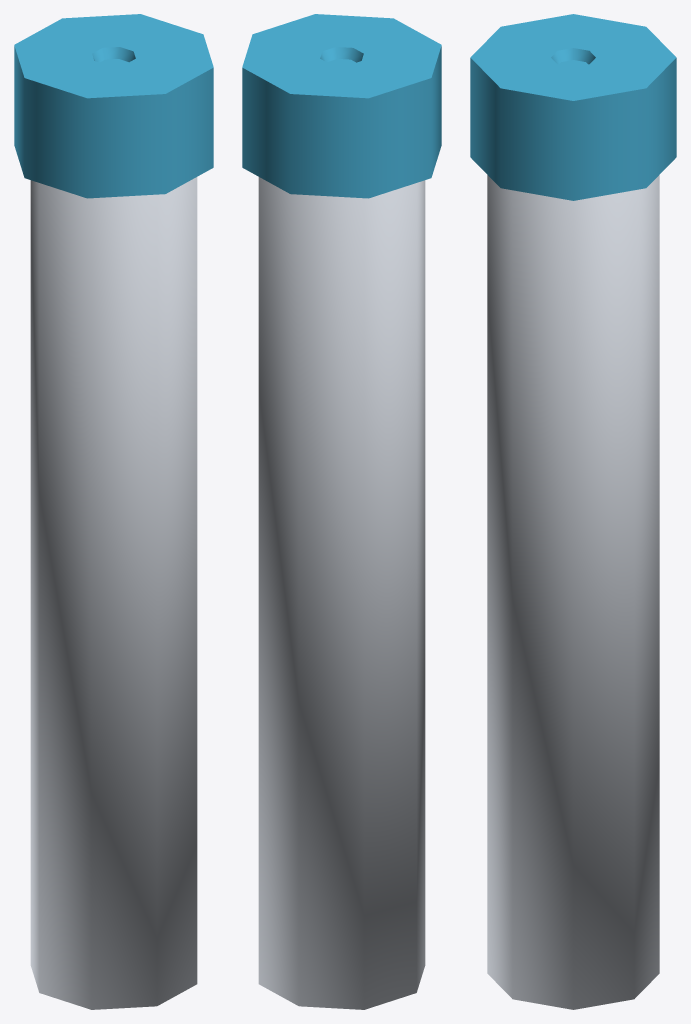
The model's file is bottle_glassware_centrifuge_tube.glb.
3 views of the same model, side by side, from view 1: azimuth 30°, elevation 25°; view 2: azimuth 150°, elevation 25°; view 3: azimuth 270°, elevation 25° (orthographic).
Parts seen in each view (by area): view 1: bottle_glassware_centrifuge_tube, bottle_glassware_centrifuge_tube_cap; view 2: bottle_glassware_centrifuge_tube, bottle_glassware_centrifuge_tube_cap; view 3: bottle_glassware_centrifuge_tube, bottle_glassware_centrifuge_tube_cap.
Boxes of the visible parts, box(x1,y1,x2,y2) form: bottle_glassware_centrifuge_tube: box(30, 177, 197, 1009); bottle_glassware_centrifuge_tube_cap: box(14, 14, 213, 198); bottle_glassware_centrifuge_tube: box(258, 177, 425, 1009); bottle_glassware_centrifuge_tube_cap: box(242, 14, 441, 198); bottle_glassware_centrifuge_tube: box(487, 175, 659, 1009); bottle_glassware_centrifuge_tube_cap: box(470, 14, 676, 200).
Size of the model in its own units: 3.31 by 16.29 by 3.31.
Materials: 2 (2 with a texture image).
